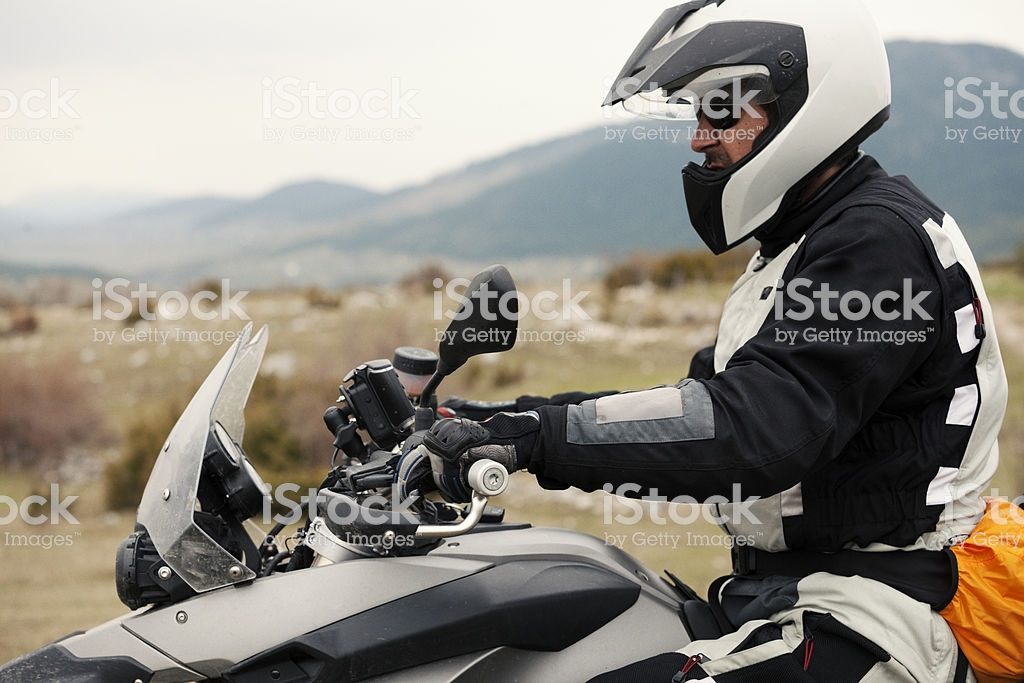helmet: (641, 13, 903, 232)
